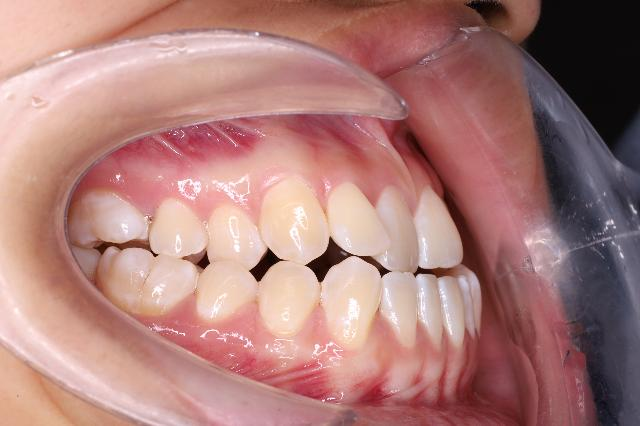canine class III 1/4: (256, 172, 384, 360)
molar class III 3/4: (70, 191, 198, 321)
